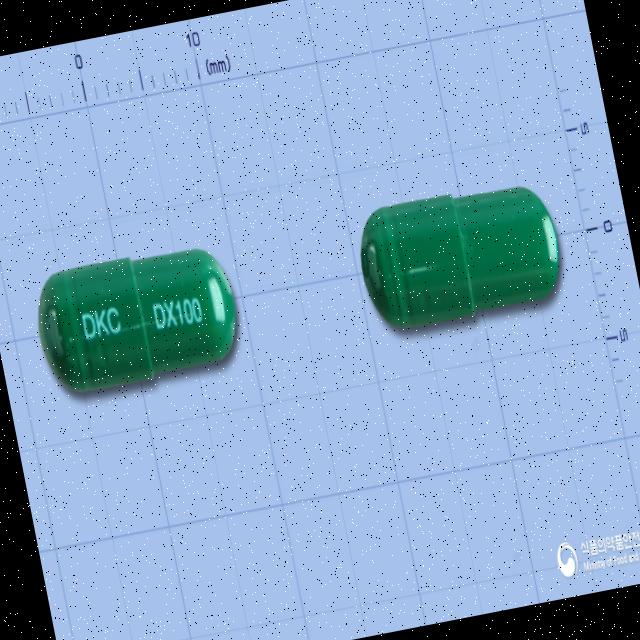Doxiramycin Cap: (28, 236, 248, 401)
